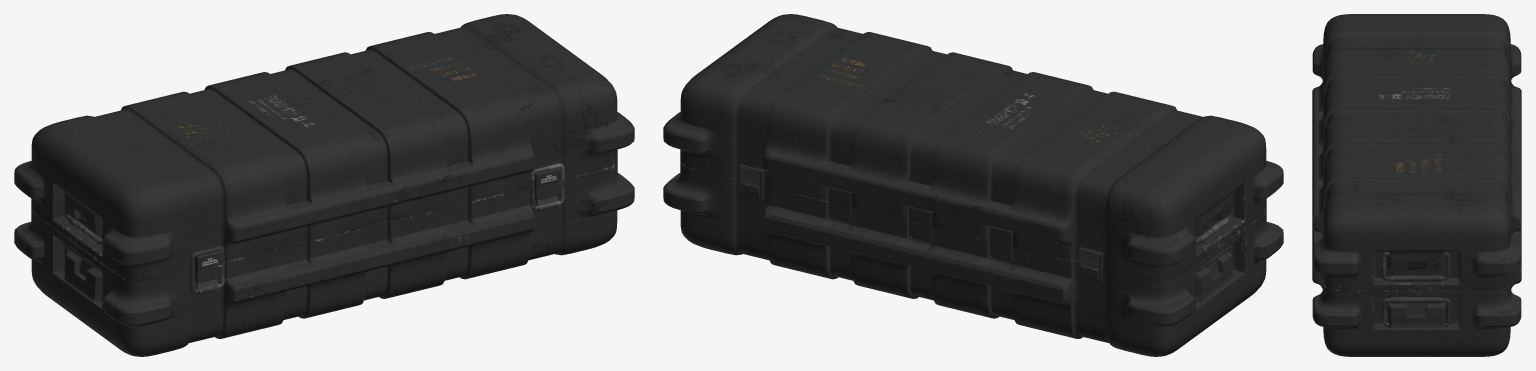
The model's file is scifi_military_storage_box_i.glb.
The picture shows the model from 3 angles, left to right: view 1: azimuth 30°, elevation 25°; view 2: azimuth 150°, elevation 25°; view 3: azimuth 270°, elevation 25°; orthographic projection. The views are drawn at different scales.
Visible parts, largest first — view 1: Box_I_Lid, Box_I_Bottom, Box_I_Handles; view 2: Box_I_Lid, Box_I_Bottom, Box_I_Hinge001, Box_I_Handles; view 3: Box_I_Lid, Box_I_Bottom, Box_I_Handles.
Boxes of the visible parts, <box> form: Box_I_Lid: <box>14,14,634,281</box>; Box_I_Bottom: <box>14,161,634,356</box>; Box_I_Handles: <box>65,163,564,300</box>; Box_I_Lid: <box>663,14,1283,281</box>; Box_I_Bottom: <box>663,162,1283,356</box>; Box_I_Hinge001: <box>739,167,1098,281</box>; Box_I_Handles: <box>1195,208,1232,300</box>; Box_I_Lid: <box>1312,14,1521,290</box>; Box_I_Bottom: <box>1312,228,1521,356</box>; Box_I_Handles: <box>1321,252,1450,326</box>.
Size of the model in its own units: 19.41 by 6.05 by 7.84.
Materials: 4 (4 with a texture image).
